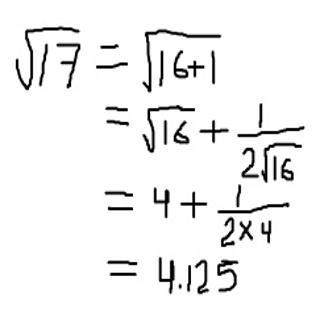.: (178, 281, 184, 290)
1: (204, 46, 222, 92), (36, 39, 51, 91), (155, 47, 168, 92), (251, 95, 267, 131), (156, 115, 171, 152), (183, 260, 195, 301), (231, 183, 248, 211), (270, 154, 279, 186)
2: (236, 143, 261, 181), (210, 217, 237, 252), (194, 255, 211, 297)
4: (152, 251, 178, 301), (148, 182, 173, 223), (256, 217, 276, 250)
5: (212, 257, 243, 298)
6: (169, 46, 190, 88), (171, 115, 194, 150), (279, 152, 298, 185)
7: (54, 39, 82, 92)
